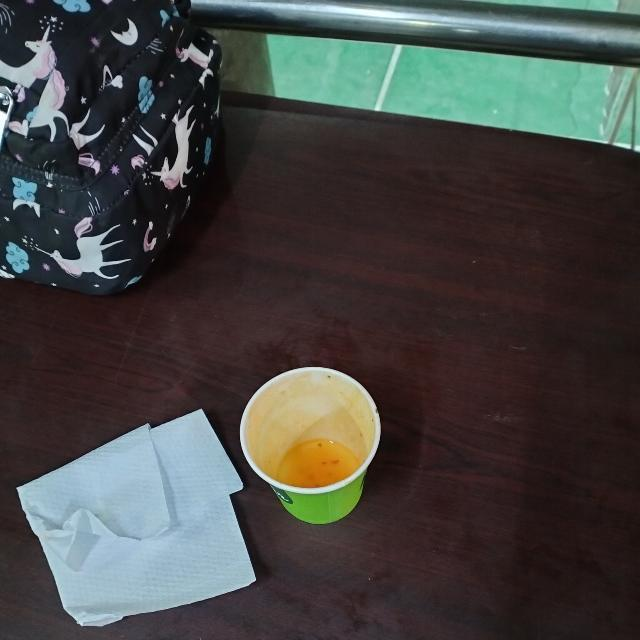kitchen paper: (18, 410, 248, 627)
